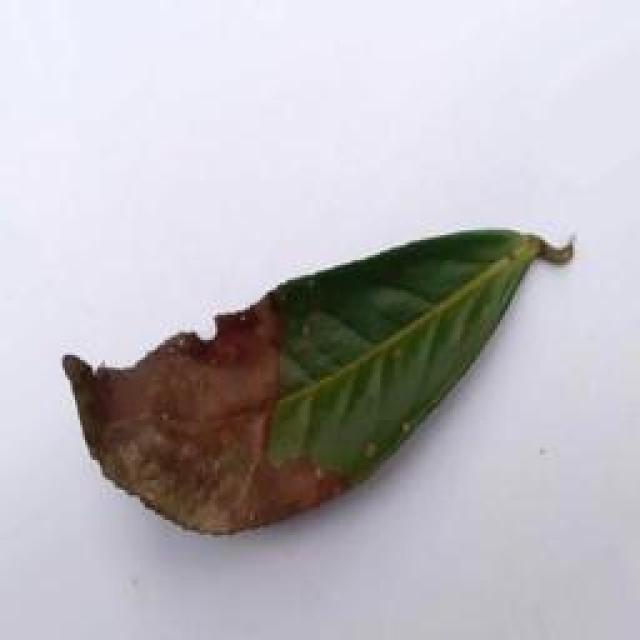Brown Blight: (49, 224, 579, 526)
